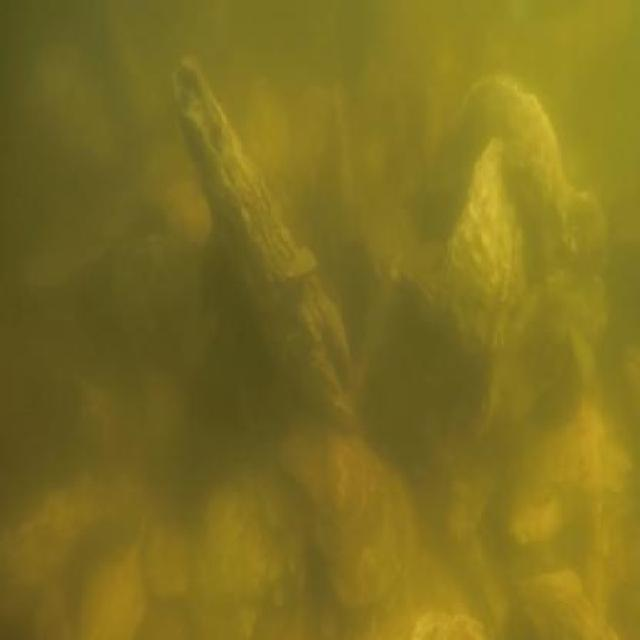Oyster-Closed: (435, 135, 529, 355)
Oyster-Indeterminate: (169, 55, 357, 417), (275, 417, 425, 619), (435, 83, 566, 279)
